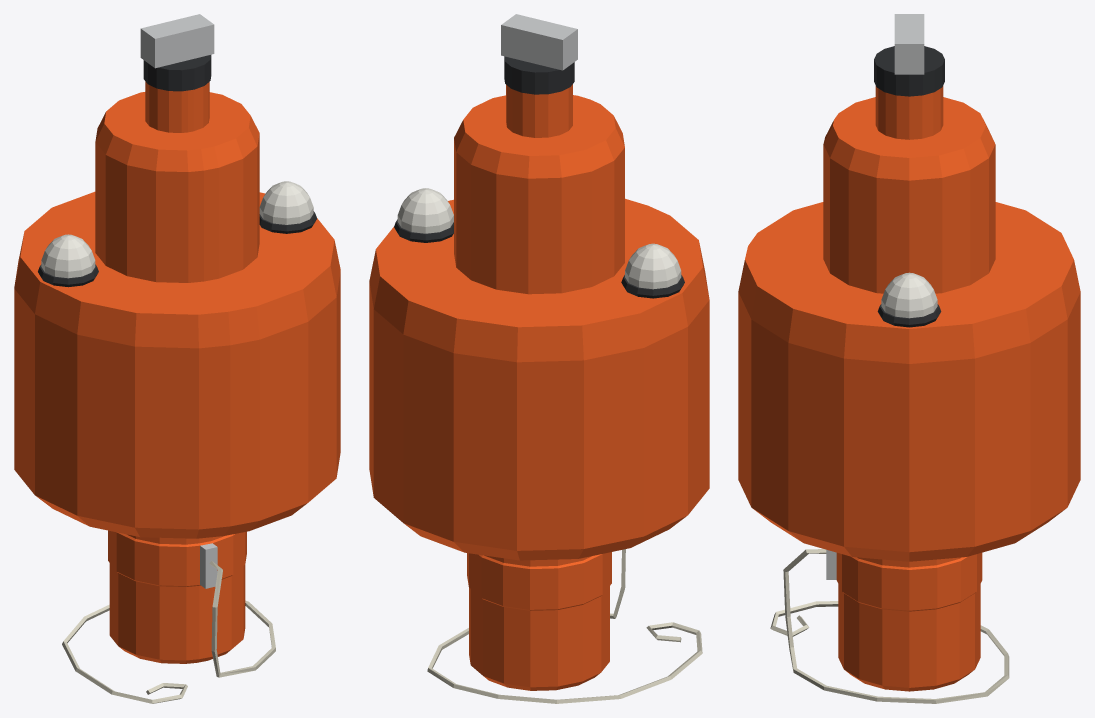
3 views of the same model, side by side, from view 1: azimuth 30°, elevation 25°; view 2: azimuth 150°, elevation 25°; view 3: azimuth 270°, elevation 25° (orthographic). The views are drawn at different scales.
Parts seen in each view (by area): view 1: Main_body_neck_and_lower_shaft, Top_silver_plate_estimated_depth, Single_loose_connected_cord, Right_lamp_dome, Left_lamp_dome, Upper_dark_collar, Lower_front_cord_attachment, Left_lamp_seat, Right_lamp_seat; view 2: Main_body_neck_and_lower_shaft, Top_silver_plate_estimated_depth, Single_loose_connected_cord, Left_lamp_dome, Right_lamp_dome, Upper_dark_collar, Left_lamp_seat, Right_lamp_seat; view 3: Main_body_neck_and_lower_shaft, Single_loose_connected_cord, Upper_dark_collar, Right_lamp_dome, Top_silver_plate_estimated_depth, Right_lamp_seat.
Part boxes in pixels (x1,y1,x2,y2): Main_body_neck_and_lower_shaft: [14, 81, 340, 663]; Top_silver_plate_estimated_depth: [140, 14, 214, 68]; Single_loose_connected_cord: [62, 560, 275, 703]; Right_lamp_dome: [259, 181, 313, 224]; Left_lamp_dome: [41, 234, 95, 278]; Upper_dark_collar: [143, 55, 211, 91]; Lower_front_cord_attachment: [200, 543, 217, 588]; Left_lamp_seat: [38, 264, 98, 287]; Right_lamp_seat: [259, 211, 316, 233]; Main_body_neck_and_lower_shaft: [369, 84, 709, 690]; Top_silver_plate_estimated_depth: [501, 14, 577, 70]; Single_loose_connected_cord: [427, 549, 702, 703]; Left_lamp_dome: [625, 243, 681, 289]; Right_lamp_dome: [397, 188, 453, 233]; Upper_dark_collar: [504, 56, 574, 94]; Left_lamp_seat: [621, 275, 684, 298]; Right_lamp_seat: [394, 219, 453, 242]; Main_body_neck_and_lower_shaft: [738, 86, 1080, 691]; Single_loose_connected_cord: [770, 549, 1009, 703]; Upper_dark_collar: [874, 46, 944, 96]; Right_lamp_dome: [881, 272, 937, 318]; Top_silver_plate_estimated_depth: [894, 14, 924, 74]; Right_lamp_seat: [877, 304, 941, 327].
Bounding box in the file's own units: 0.183 × 0.375 × 0.183.
